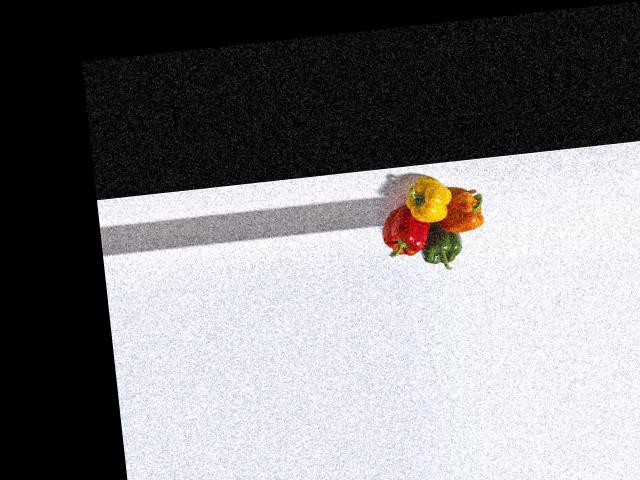bell_pepper: (377, 203, 432, 263)
